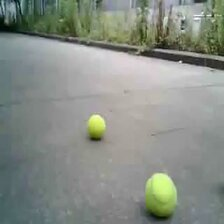tennis: (143, 172, 176, 215), (85, 114, 107, 139)
